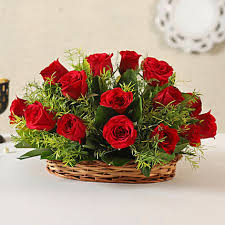rose: (144, 56, 221, 160), (38, 57, 90, 105), (101, 88, 138, 154), (85, 49, 145, 81), (56, 113, 88, 149), (25, 103, 54, 135), (8, 96, 29, 123)
